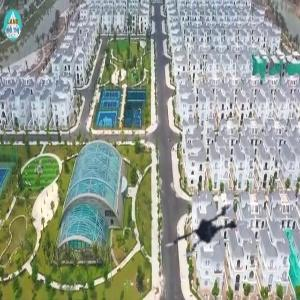drone: (161, 178, 250, 267)
